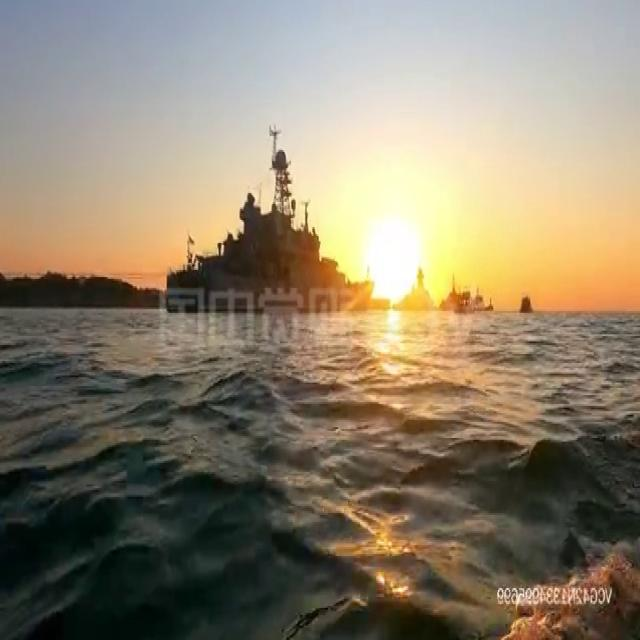fishing boat: (452, 282, 496, 318)
navalvessels: (164, 144, 374, 316), (390, 266, 440, 314), (516, 289, 534, 316)
